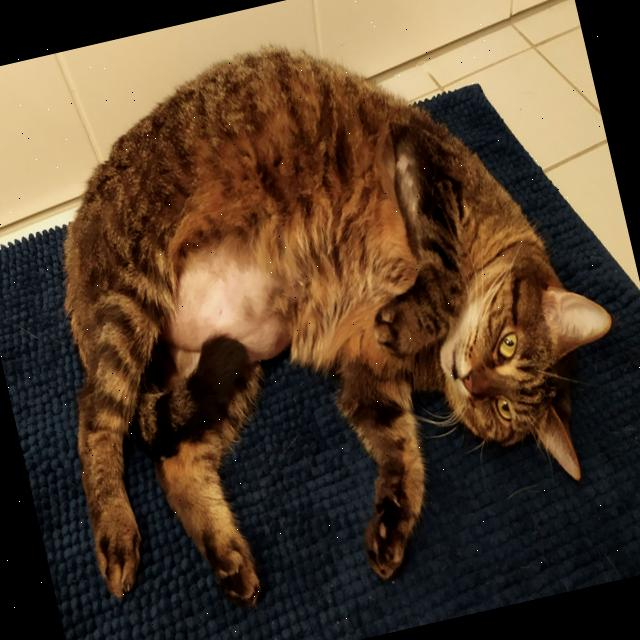cat-hairloss: (163, 230, 303, 376)
